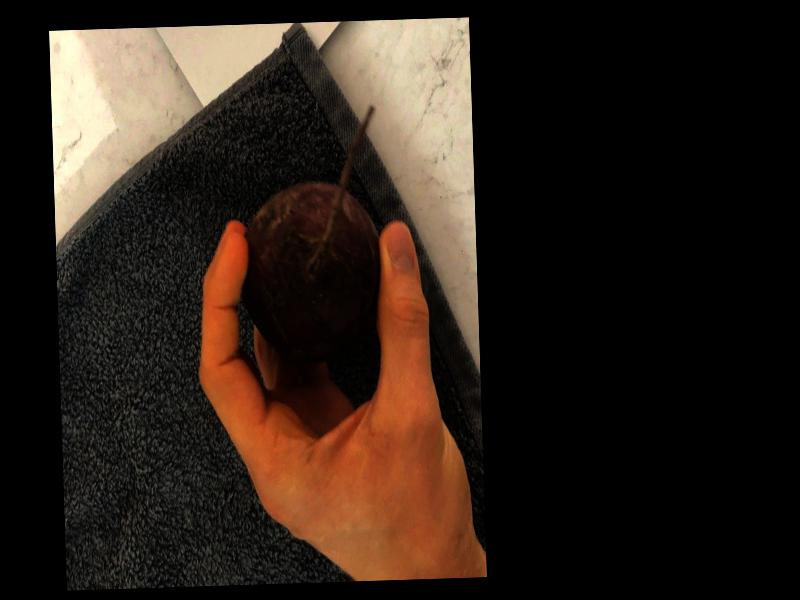Beet: (236, 104, 383, 363)
